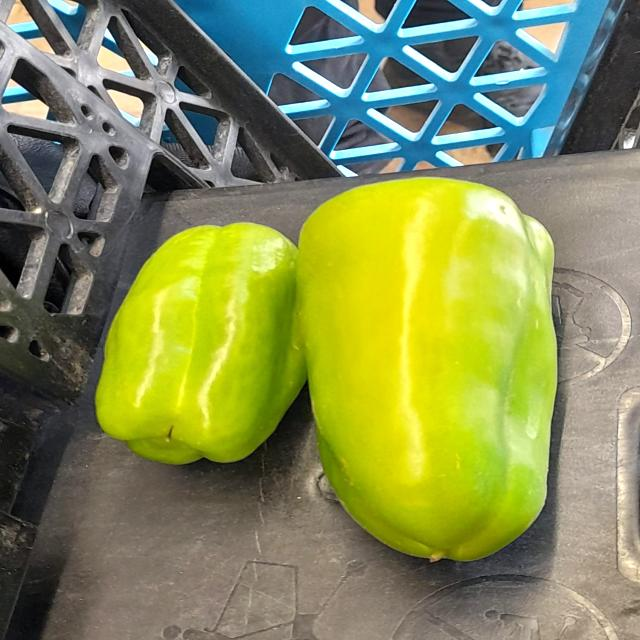bell pepper: (286, 168, 589, 570), (91, 197, 317, 476)
